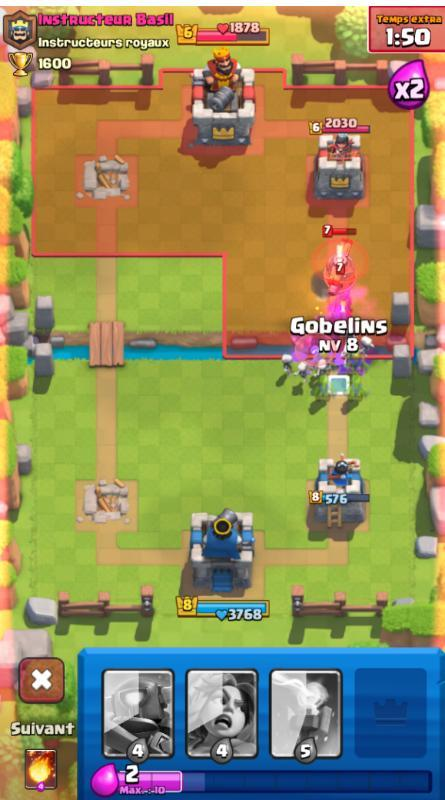player_skeletons: (275, 349, 306, 373), (349, 335, 376, 359), (291, 357, 311, 384), (313, 355, 333, 382)
